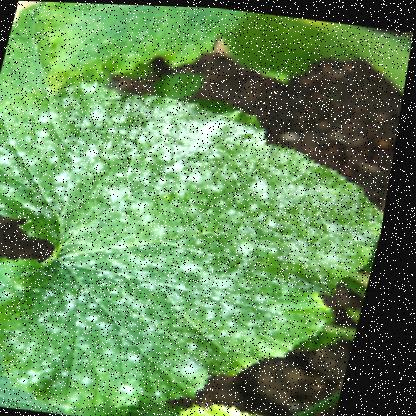PowderyMildew: (81, 144, 344, 313), (17, 247, 247, 398), (7, 86, 193, 230)
